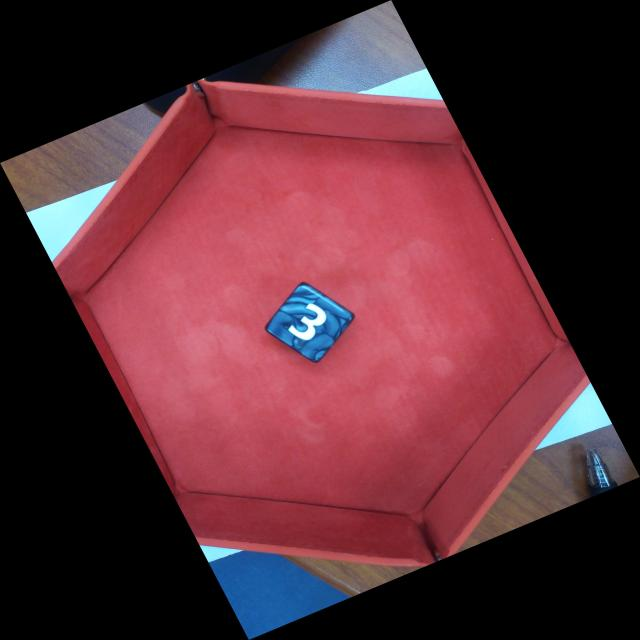dice: (265, 282, 355, 363)
